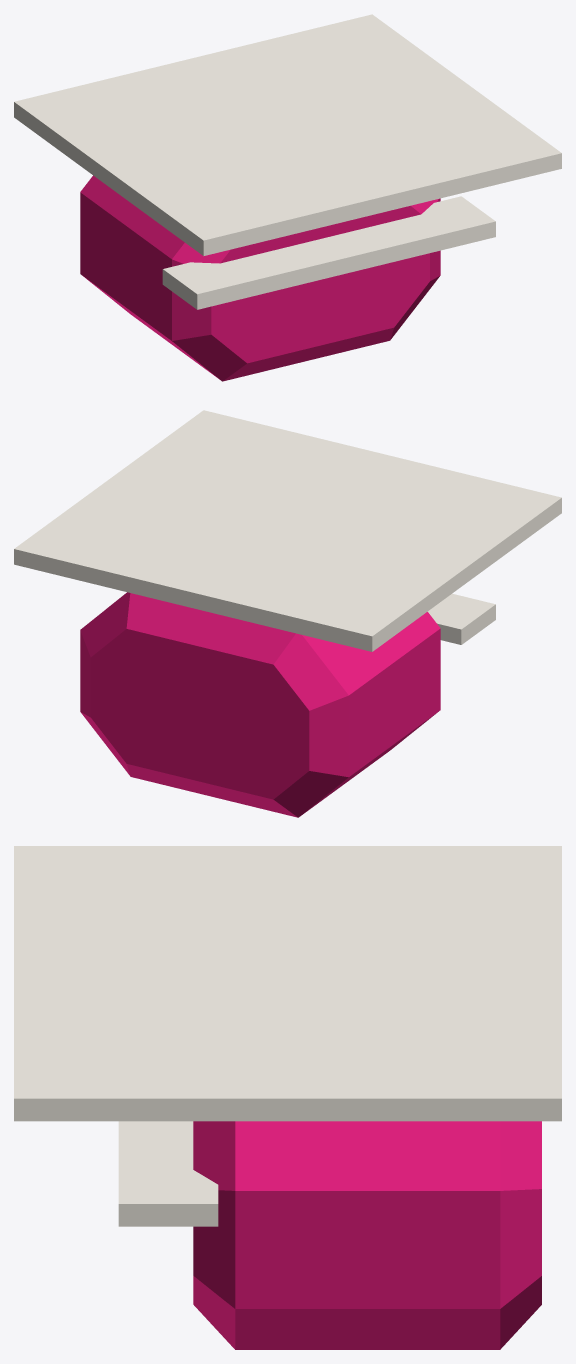
Rendered from kiosk-magenta.glb.
The picture shows the model from 3 angles, top to bottom: view 1: azimuth 30°, elevation 25°; view 2: azimuth 150°, elevation 25°; view 3: azimuth 270°, elevation 25°; orthographic projection. The views are drawn at different scales.
Visible parts, largest first — view 1: kiosk_canopy, kiosk_body, kiosk_counter; view 2: kiosk_canopy, kiosk_body, kiosk_counter; view 3: kiosk_canopy, kiosk_body, kiosk_counter.
Boxes of the visible parts, <box> form: kiosk_canopy: <box>14,14,561,255</box>; kiosk_body: <box>80,175,440,381</box>; kiosk_counter: <box>162,196,495,309</box>; kiosk_canopy: <box>14,410,561,651</box>; kiosk_body: <box>80,592,440,817</box>; kiosk_counter: <box>427,593,495,644</box>; kiosk_canopy: <box>14,846,561,1121</box>; kiosk_body: <box>193,1121,541,1349</box>; kiosk_counter: <box>118,1121,218,1226</box>.
Bounding box in the file's own units: 6 × 3.52 × 5.5.
